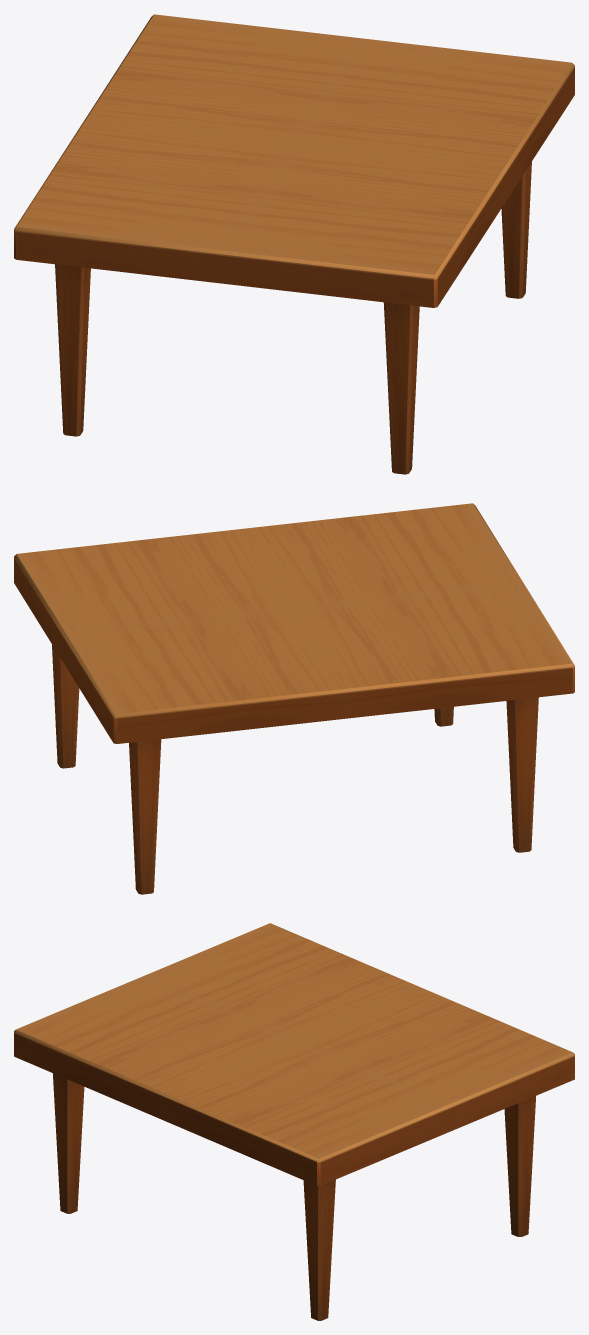
File: jia_zhuozi.FBX
The picture shows the model from 3 angles, top to bottom: view 1: azimuth 30°, elevation 25°; view 2: azimuth 150°, elevation 25°; view 3: azimuth 270°, elevation 25°; orthographic projection. The views are drawn at different scales.
Parts seen in each view (by area): view 1: jia_zhuozi; view 2: jia_zhuozi; view 3: jia_zhuozi.
Boxes of the visible parts, x1,y1,x2,y2 form: jia_zhuozi: (14, 14, 574, 474); jia_zhuozi: (14, 503, 574, 894); jia_zhuozi: (14, 923, 574, 1320).
Bounding box in the file's own units: 232 × 82.47 × 232.
